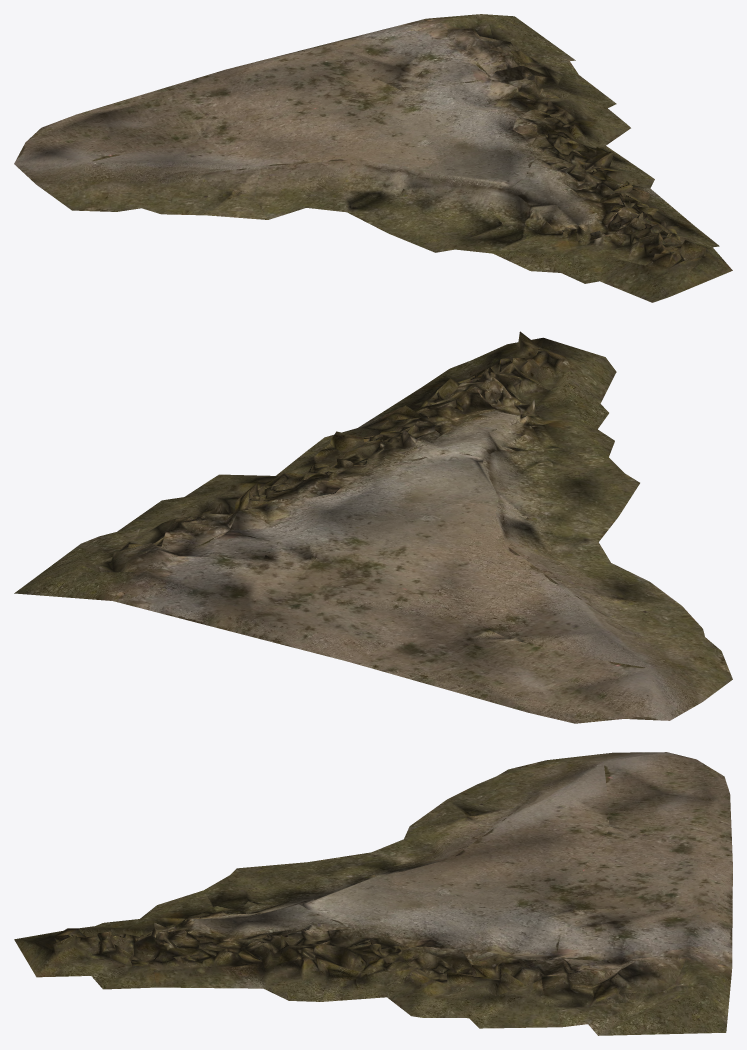
The model's file is coast_rocks_02.glb.
3 renders of one model, top to bottom at view 1: azimuth 30°, elevation 25°; view 2: azimuth 150°, elevation 25°; view 3: azimuth 270°, elevation 25°, orthographic. The views are drawn at different scales.
Parts seen in each view (by area): view 1: coast_rocks_02; view 2: coast_rocks_02; view 3: coast_rocks_02.
Boxes of the visible parts, <box> form: coast_rocks_02: <box>14,14,732,302</box>; coast_rocks_02: <box>14,331,732,723</box>; coast_rocks_02: <box>14,752,732,1035</box>.
Size of the model in its own units: 45.69 by 2.92 by 49.2.
Materials: 1 (1 with a texture image).
